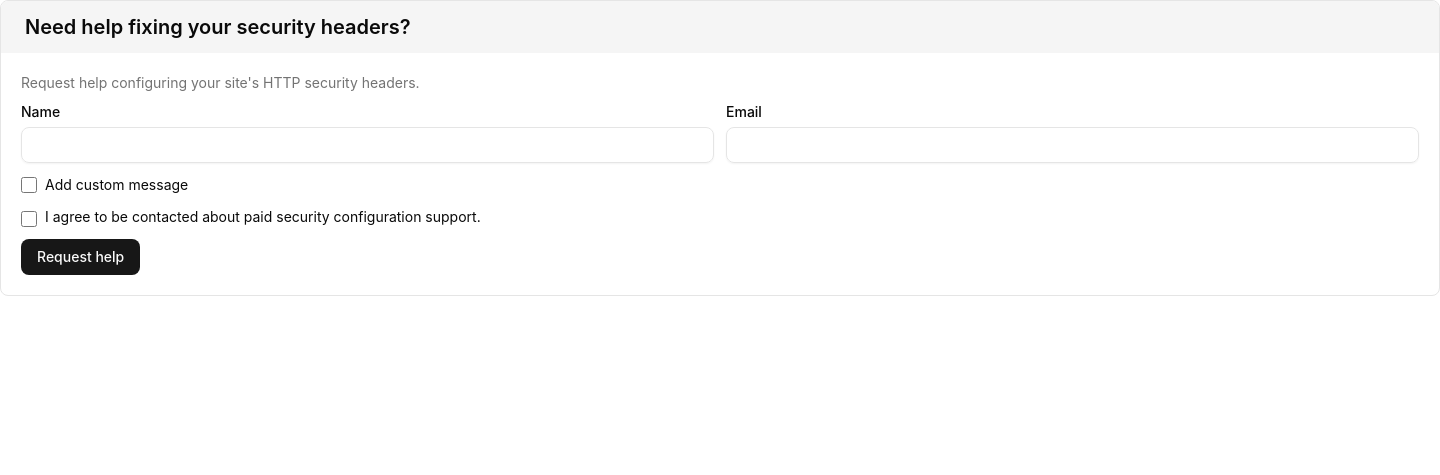
Test case: LeadForm › preserves values and offers a retry after a failed request
Type "Ada Lovelace" into the field labelled "Name". click: (368, 145)
box: [21,127,714,163]
Type "ada@example.com" into the field labelled "Email". click: (1072, 145)
box: [726,127,1419,163]
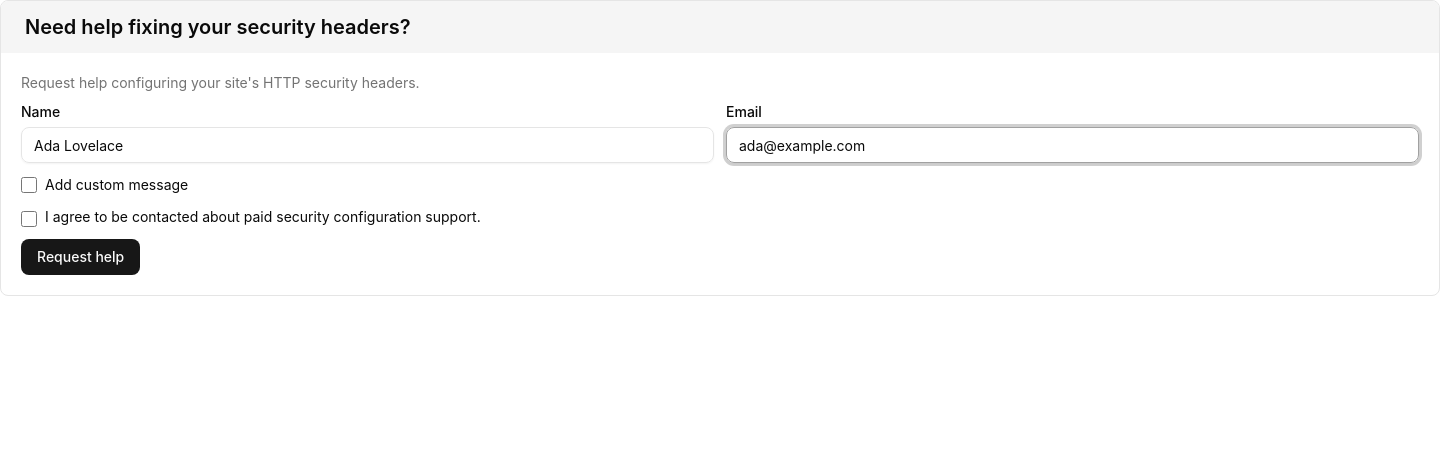
Click the checkbox labelled "Add custom message". click: (29, 185)
box: [21,177,37,193]
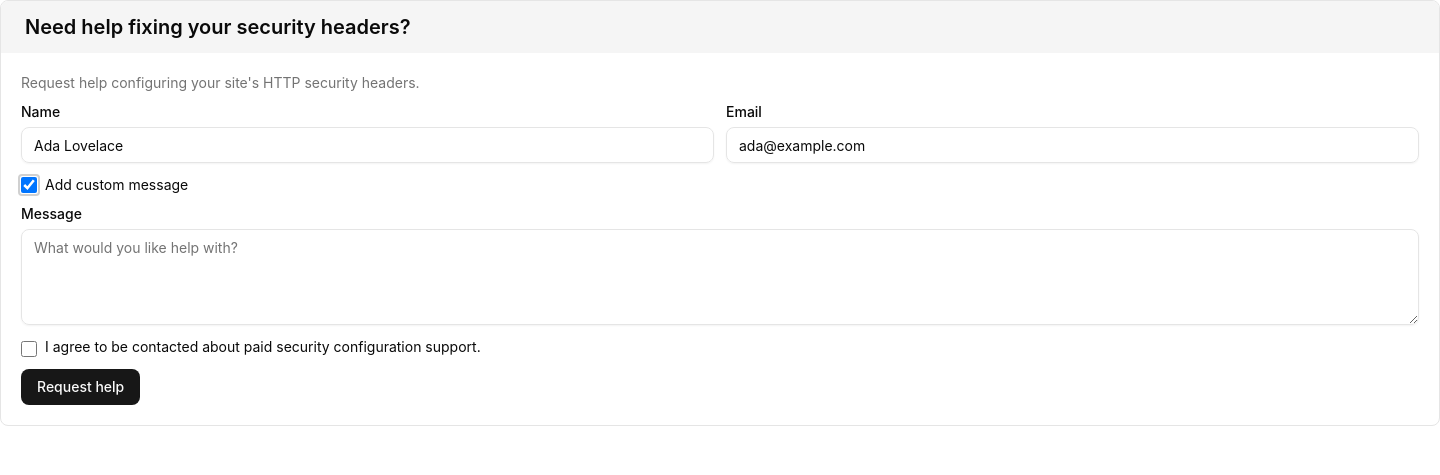
Type "Help with CSP" into the text box labelled "Message". click: (720, 277)
box: [21,229,1419,325]
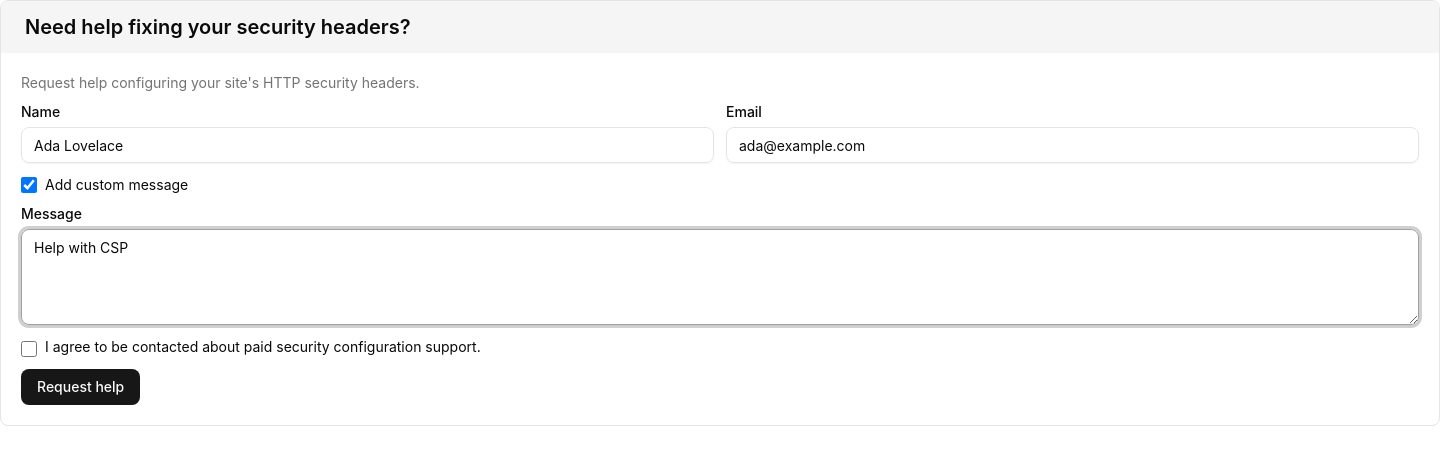
Click the checkbox labelled "I agree to be contacted about paid security configuration support.". click: (29, 349)
box: [21,341,37,357]
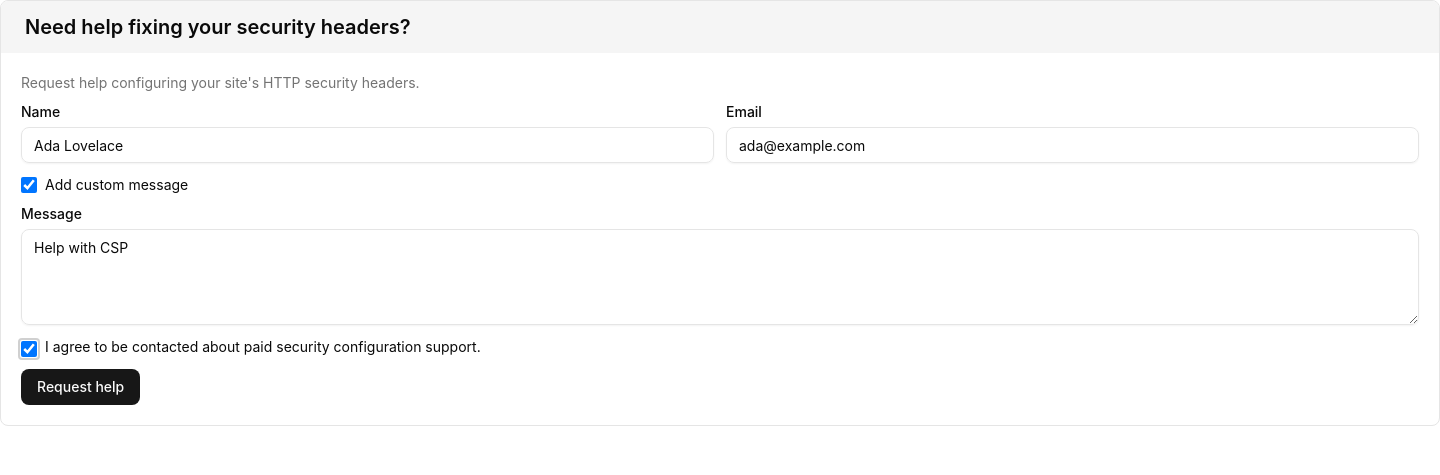
Click the button "Request help". click: (81, 387)
box: [21,369,140,405]
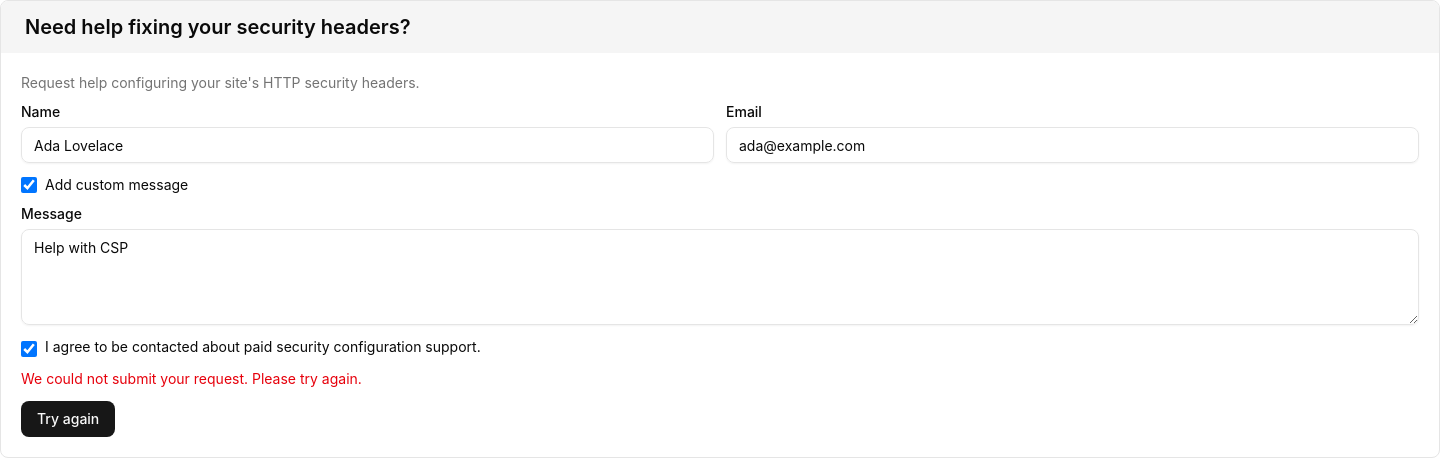
Result: the text "We could not submit your request. Please try again." is shown at [21,370,362,387]
Click the button "Try again". click: (68, 419)
box: [21,401,115,437]
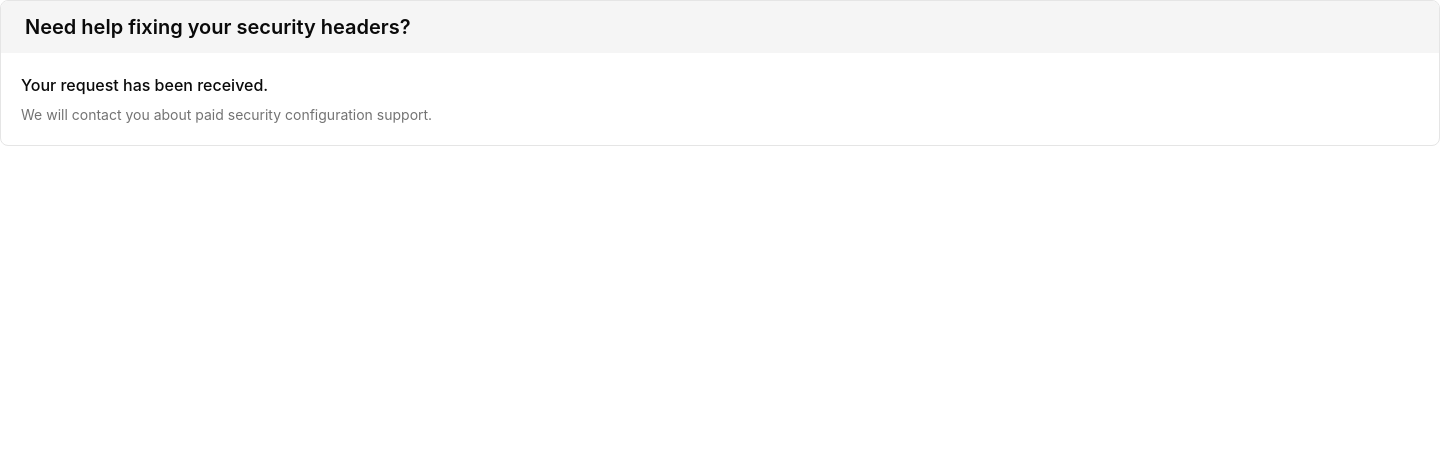
Result: the text "Your request has been received." is shown at [21,75,268,95]
